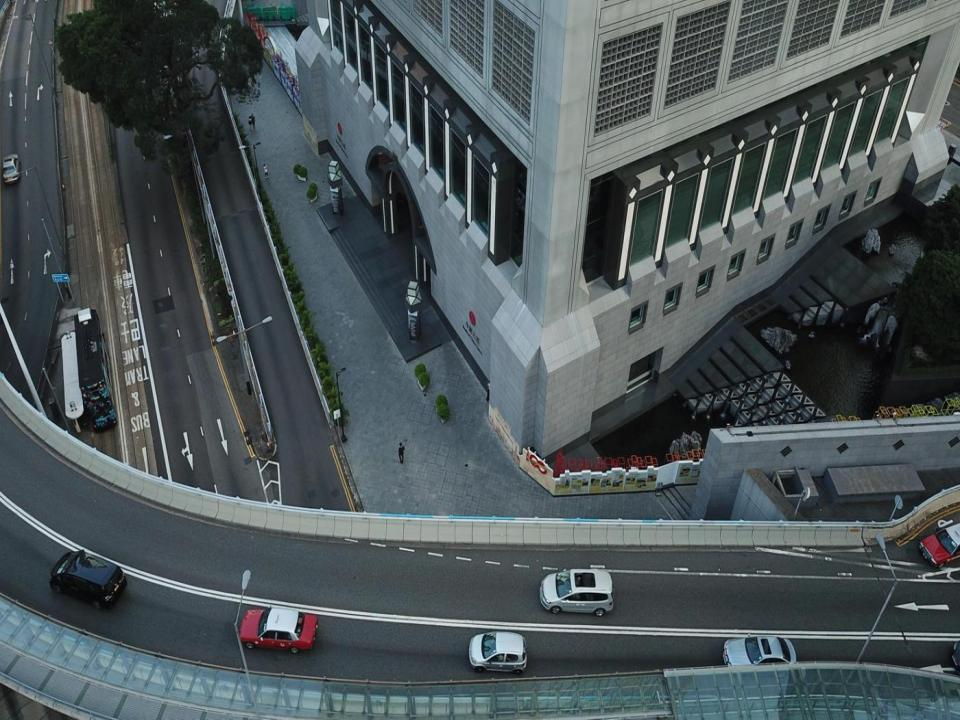bus: (73, 308, 118, 432)
car: (49, 549, 126, 609), (241, 607, 318, 653), (540, 568, 612, 614), (723, 636, 796, 674), (468, 632, 524, 672), (919, 521, 960, 569), (0, 152, 18, 184)
